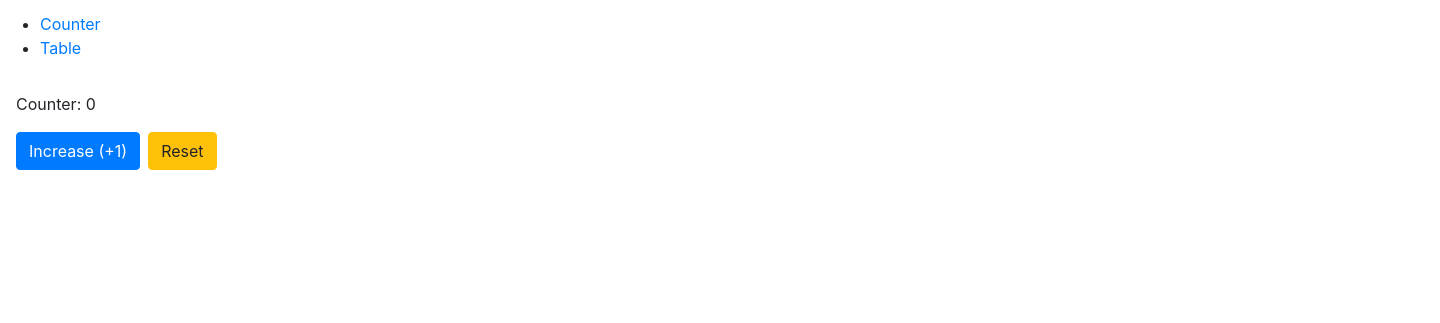
Test: Integration test App › When navigate to Table page
The width and height of the screenshot is (1440, 323).
Click the link "Table": (61, 48) left=40, top=38, right=81, bottom=58
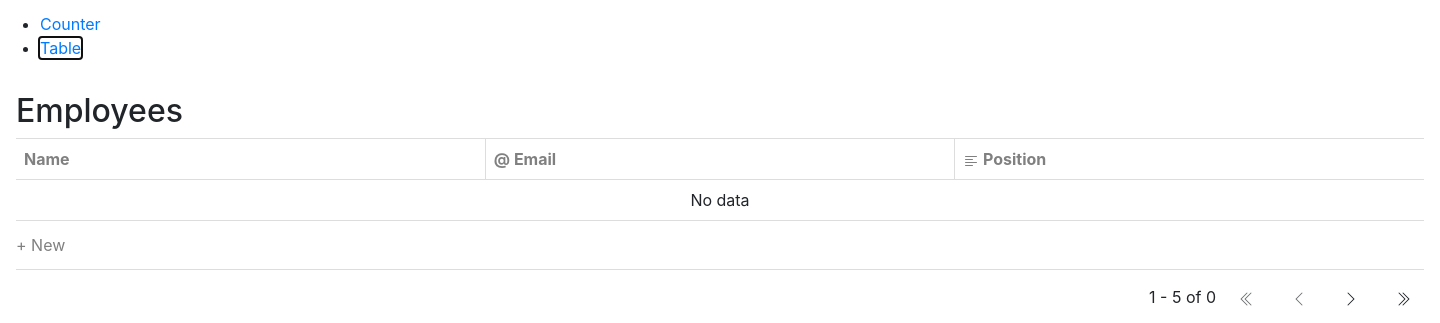
Expected: the heading "Employees" is shown, left=16, top=91, right=183, bottom=130
